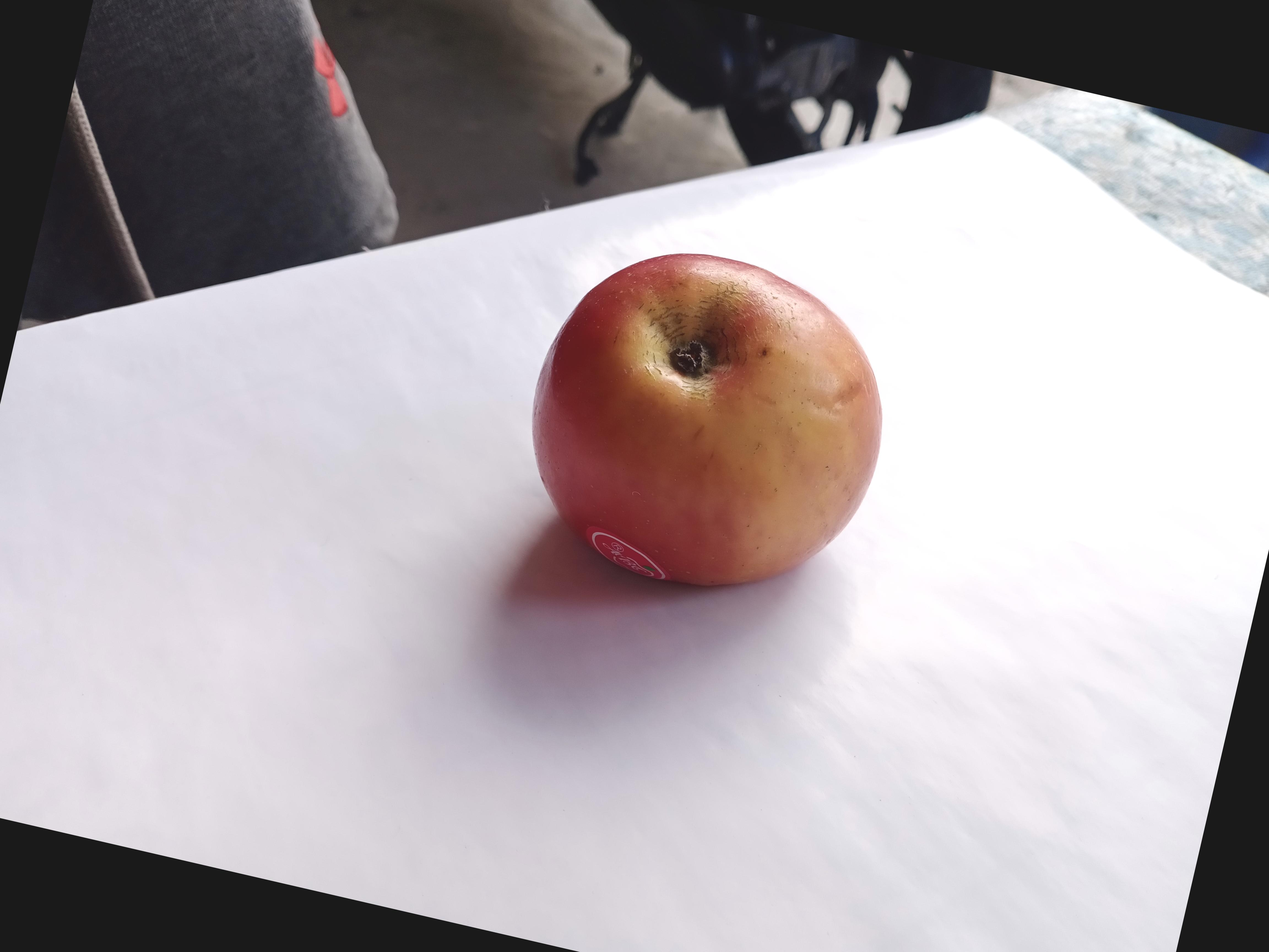Apple Ripe: (633, 37, 1078, 491)
